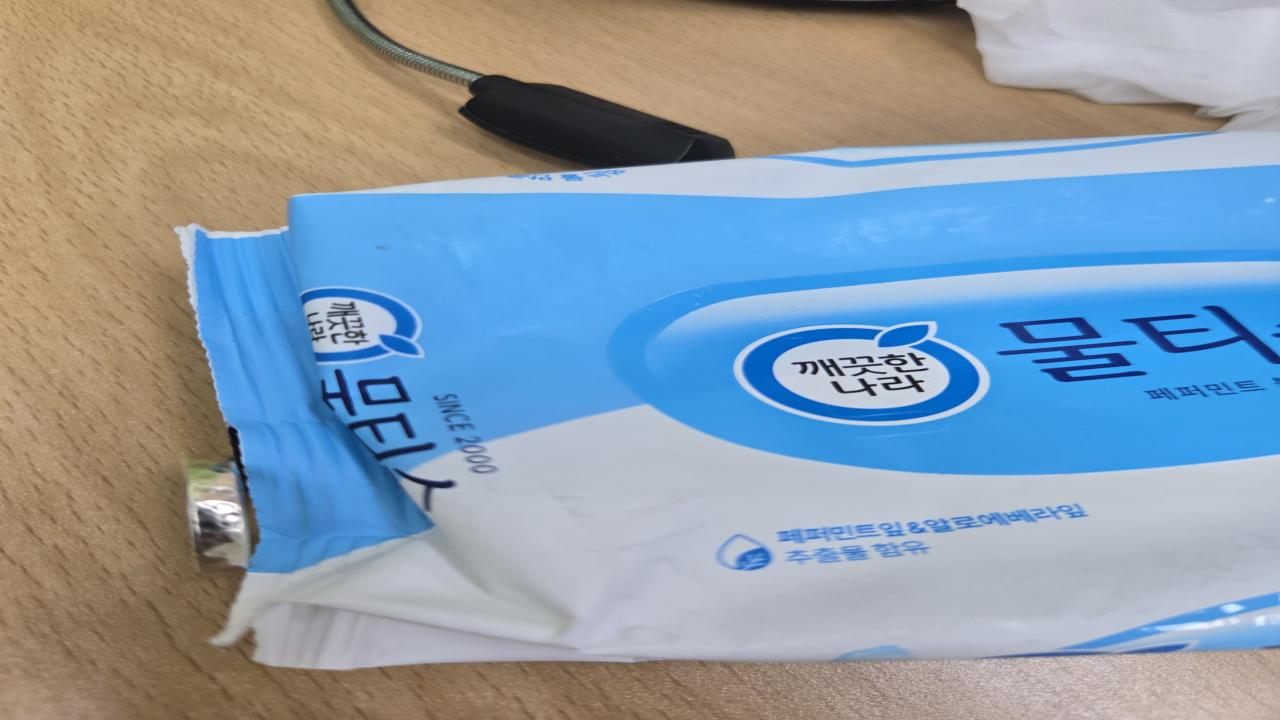ring: (182, 459, 256, 570)
